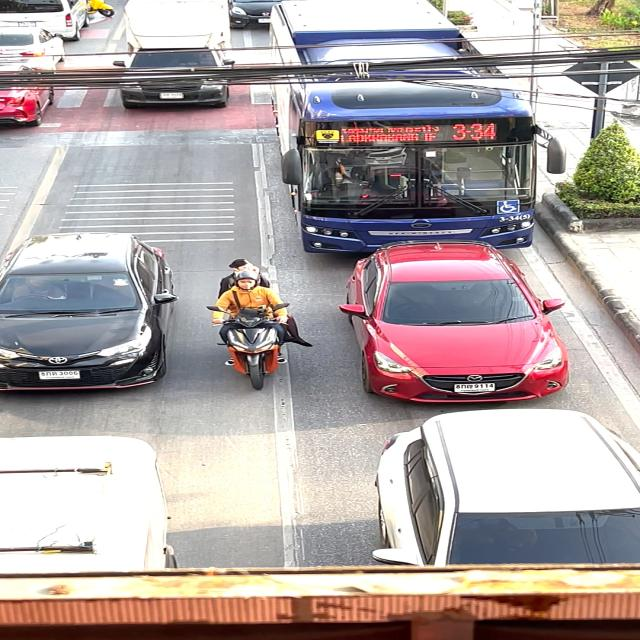car: (258, 0, 563, 264), (317, 242, 598, 404), (374, 406, 640, 568), (0, 218, 198, 408), (4, 428, 179, 574), (119, 0, 246, 122)
